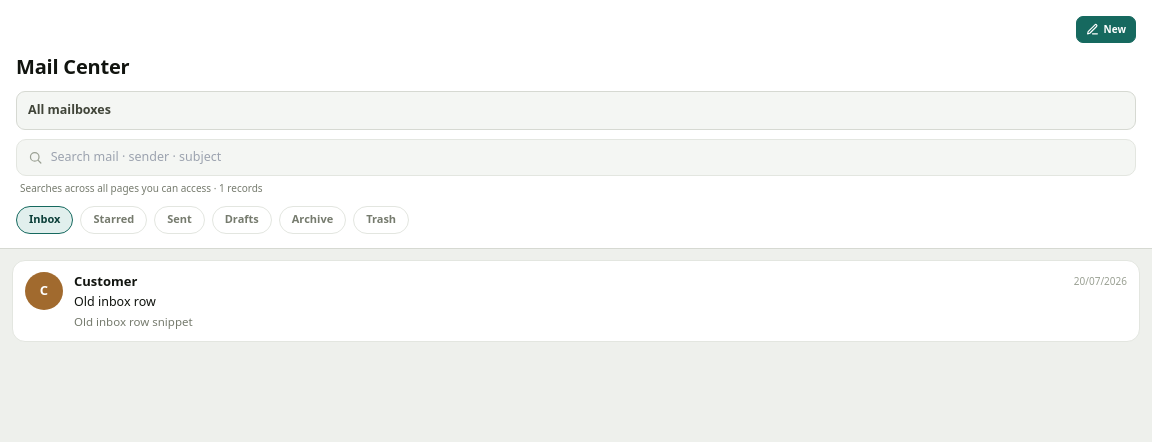
Scenario: MobileMailCenter paginated search › searches on the server, hides stale rows immediately, and loads later pages
Expected: the text "Old inbox row" is shown, [74, 293, 156, 310]
In the field named "Search all mail": (587, 157) [51, 148, 1124, 167], type "A1"
Wait 300 ms
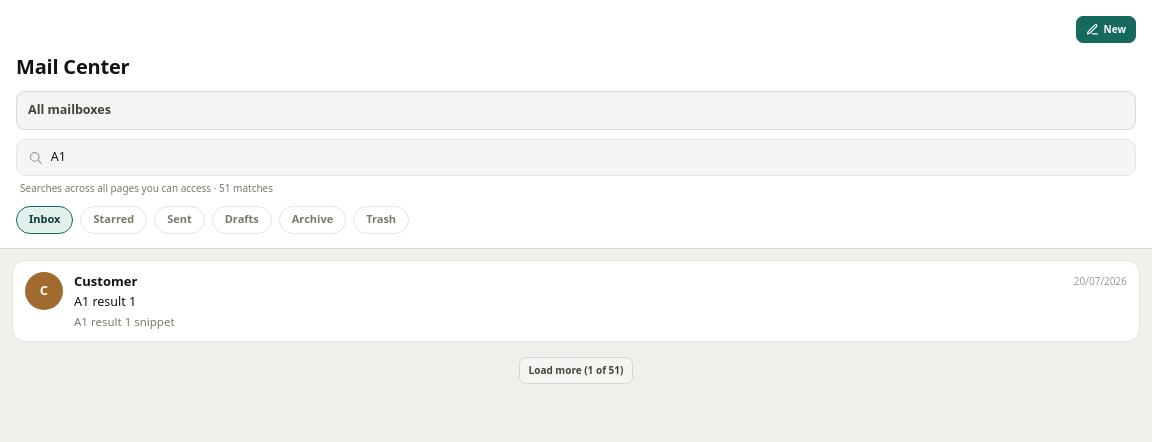
Expected: the text "Old inbox row" is gone
Expected: the text "A1 result 1" is shown, [74, 293, 136, 310]
Click the button with aria-label "Load more mail": (576, 370) [519, 357, 634, 384]
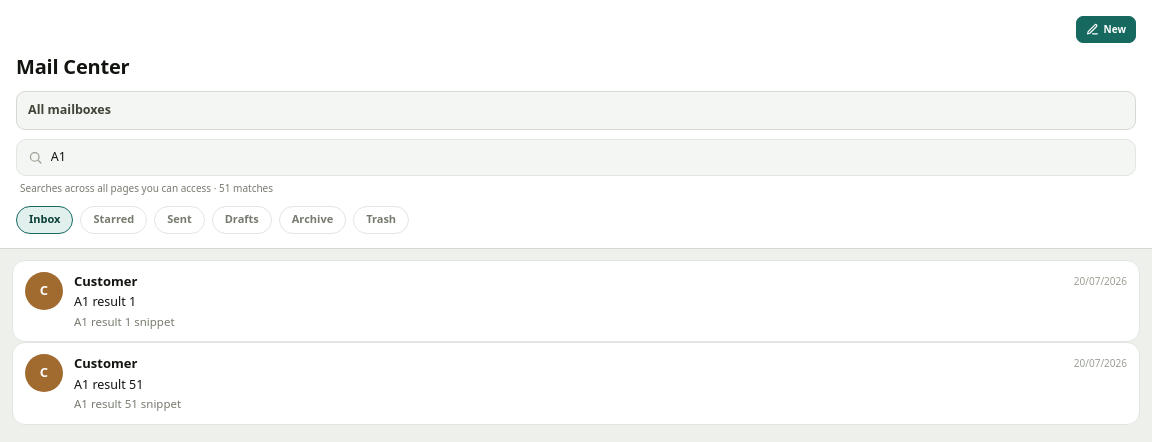
Expected: the text "A1 result 51" is shown, [74, 376, 143, 392]
